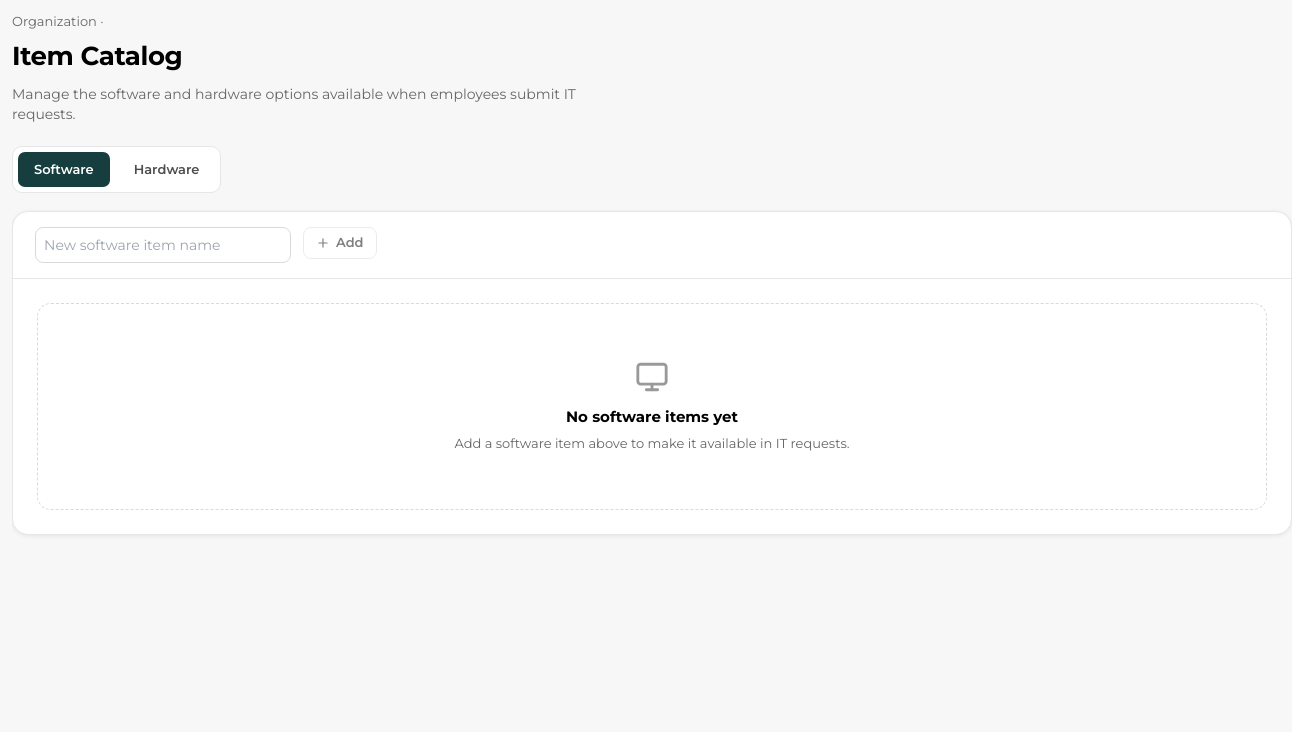
Test: adding an item posts to the catalog and clears the input on success
The width and height of the screenshot is (1292, 732).
Expected: the text "No software items yet" is shown, [566, 407, 738, 426]
Type "Laptop" into the field with placeholder "New software item name" at (163, 245), box [35, 227, 291, 263]
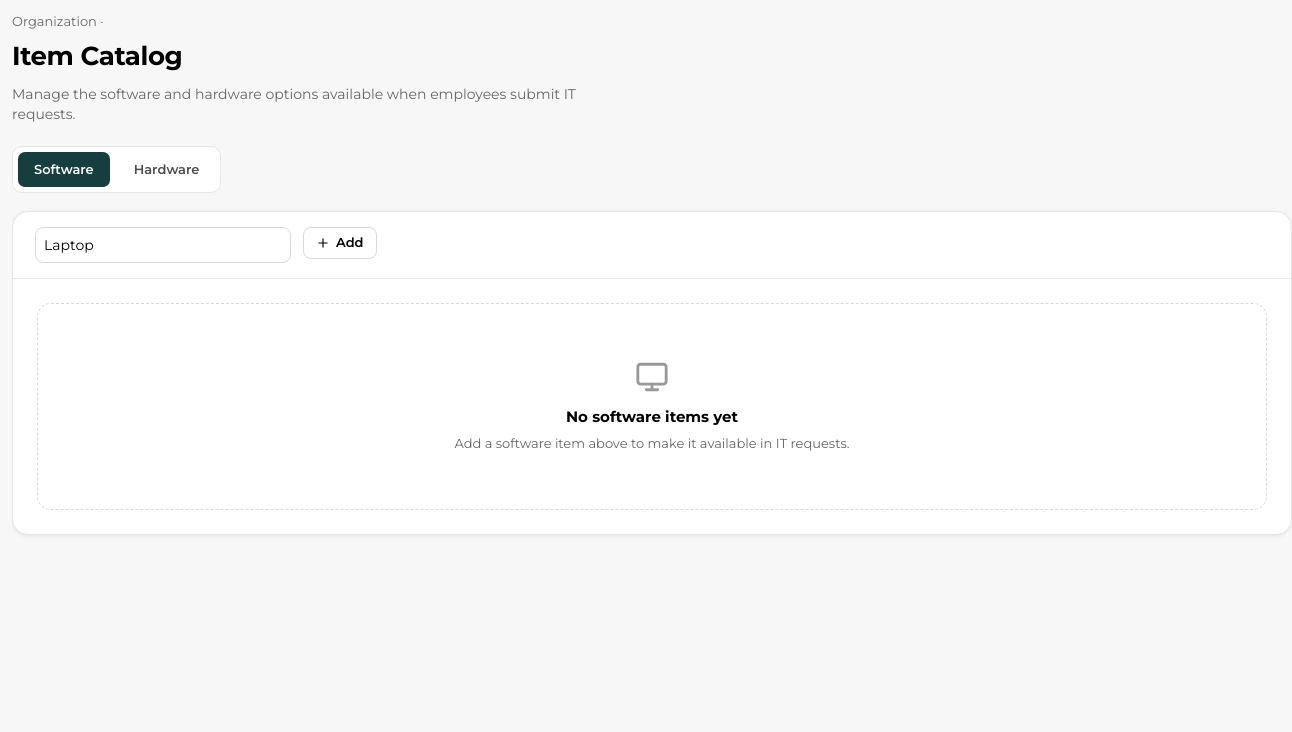
Click the button "Add" at (340, 243), box [303, 227, 376, 259]
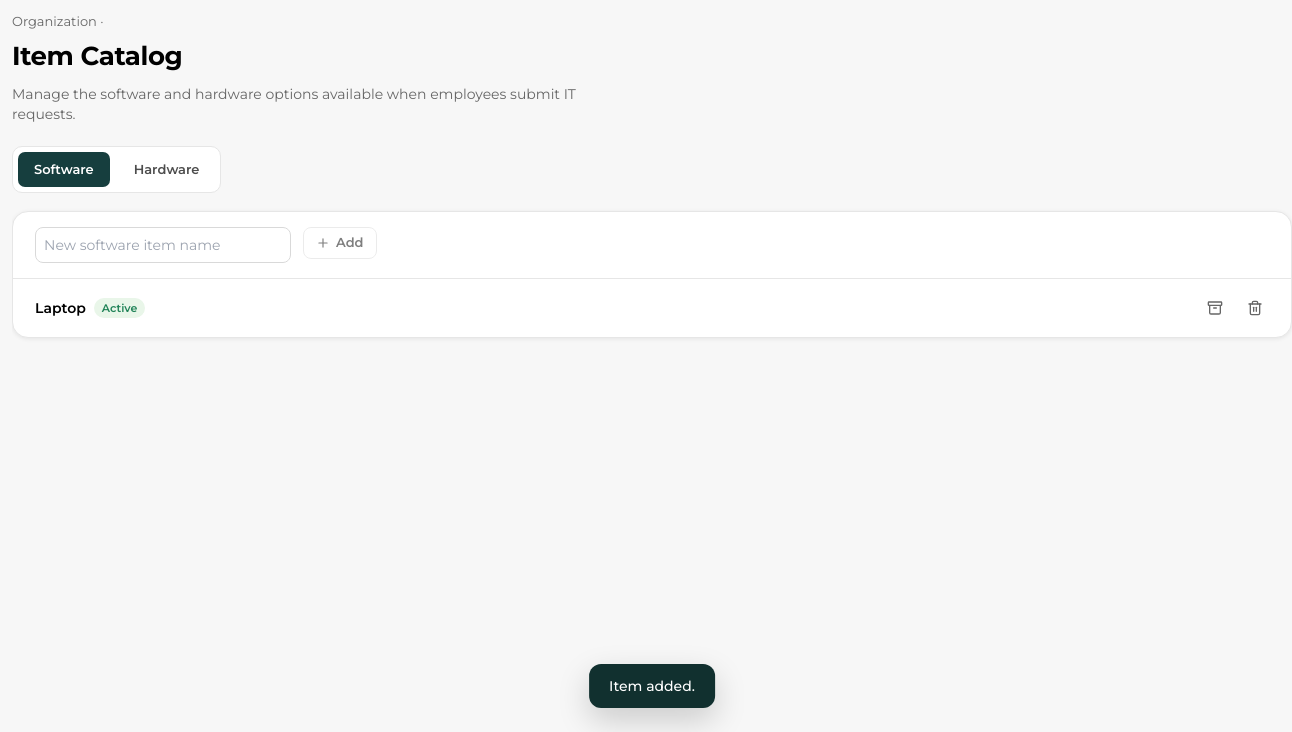
Now the text "Item added." is shown, box [589, 664, 715, 708]
